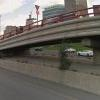Bridge: (6, 12, 99, 47)
